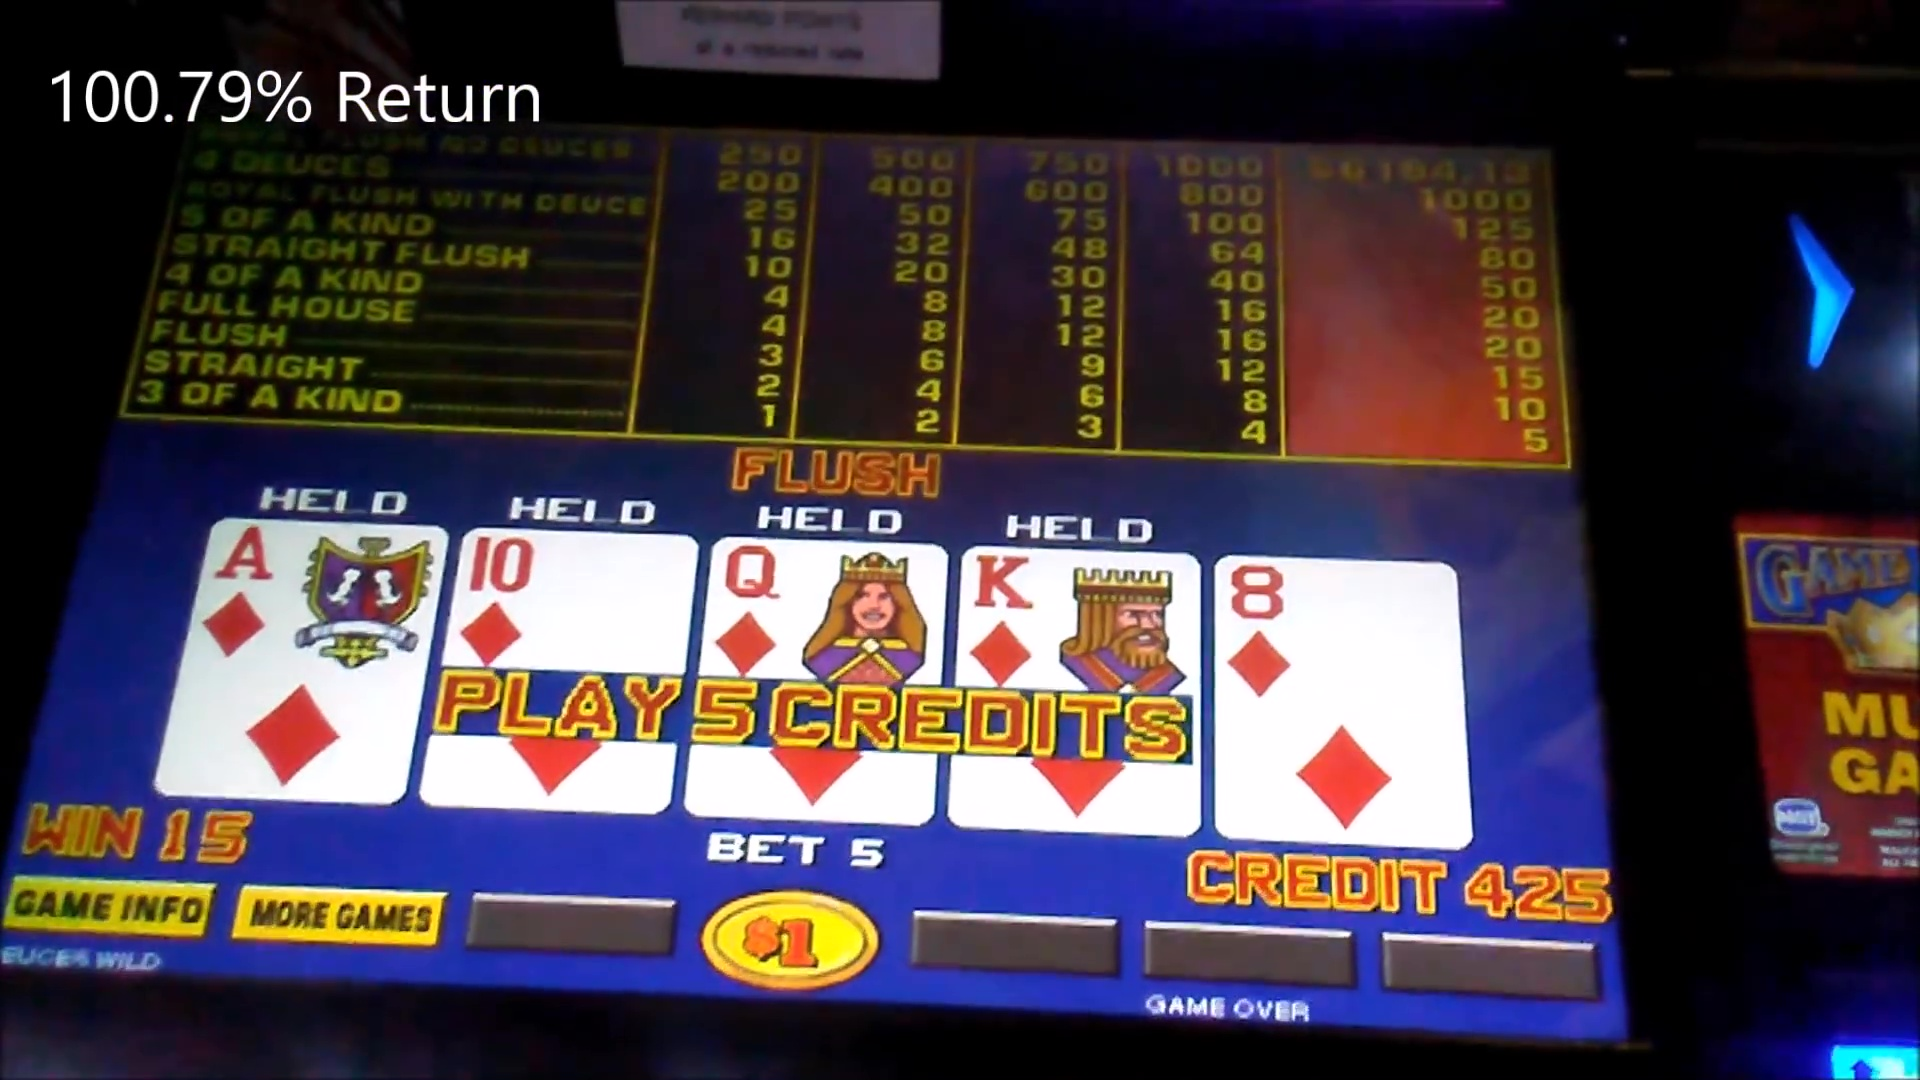D8: (1218, 560, 1455, 696)
DA: (214, 520, 426, 665)
DK: (963, 555, 1197, 678)
DQ: (708, 547, 947, 673)
DT: (455, 531, 688, 662)
